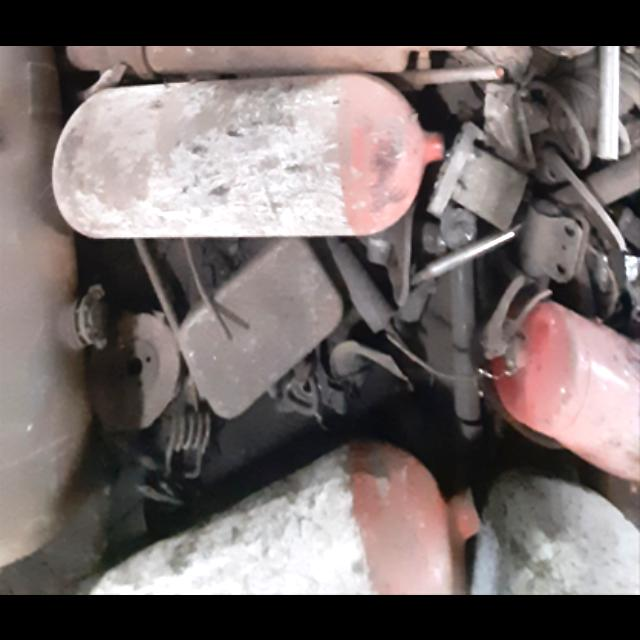Cylinders: (45, 79, 455, 246)
